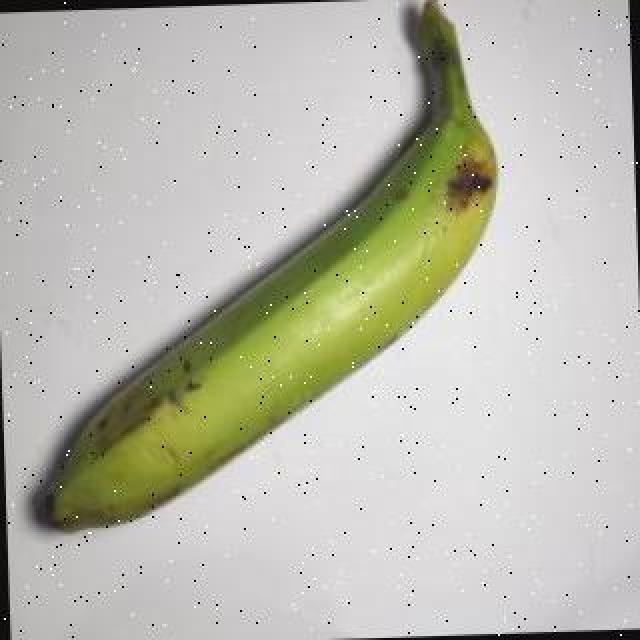Unripe: (36, 1, 499, 532)
